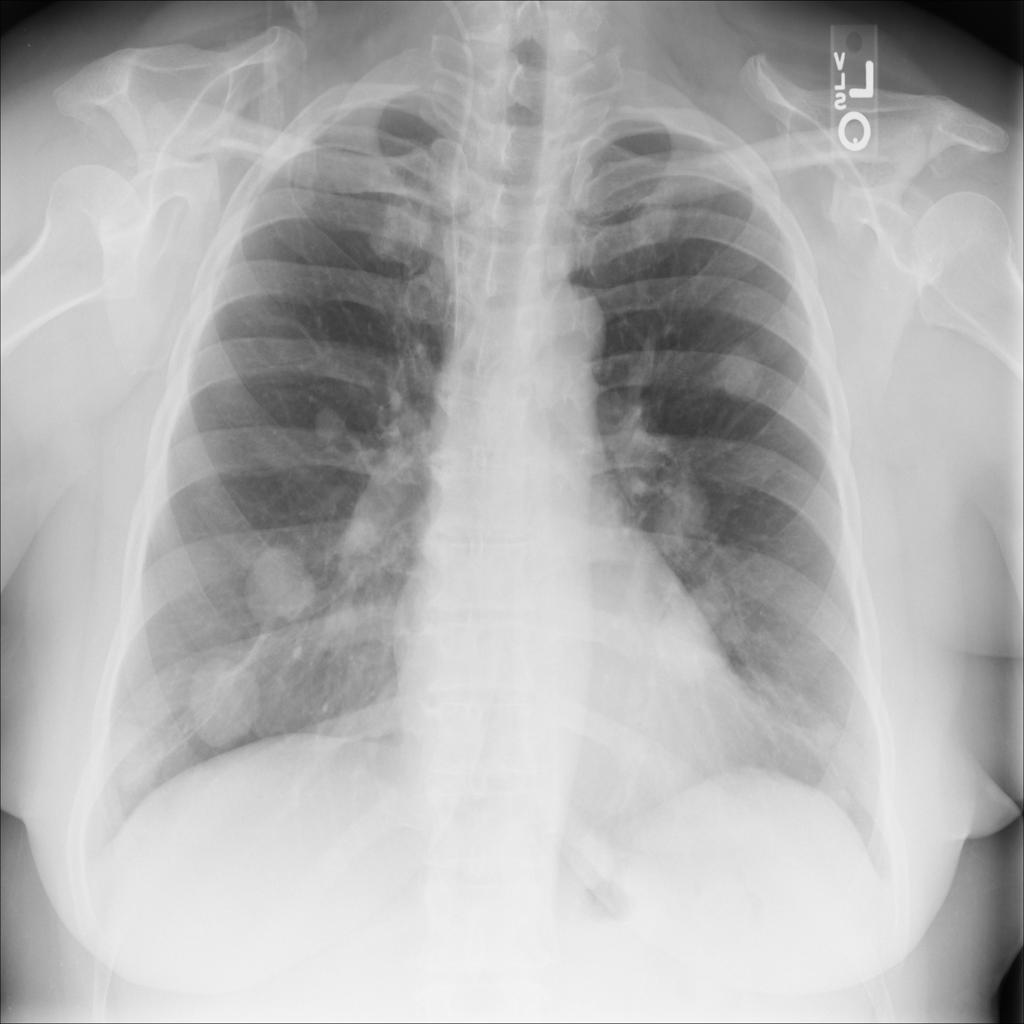nodule: (636, 578, 736, 699), (173, 642, 273, 760), (237, 527, 326, 639), (101, 716, 175, 802), (705, 330, 777, 415), (328, 489, 393, 569), (306, 396, 355, 450), (803, 708, 853, 759)
